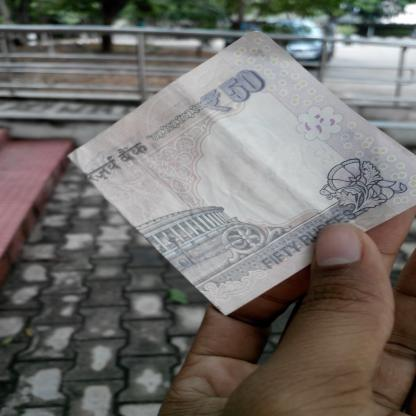Old50Back: (64, 30, 416, 317)
